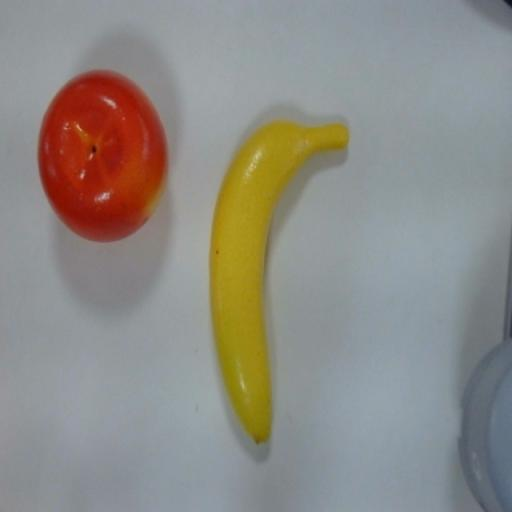Ripe: (204, 92, 358, 482), (36, 56, 178, 257)
